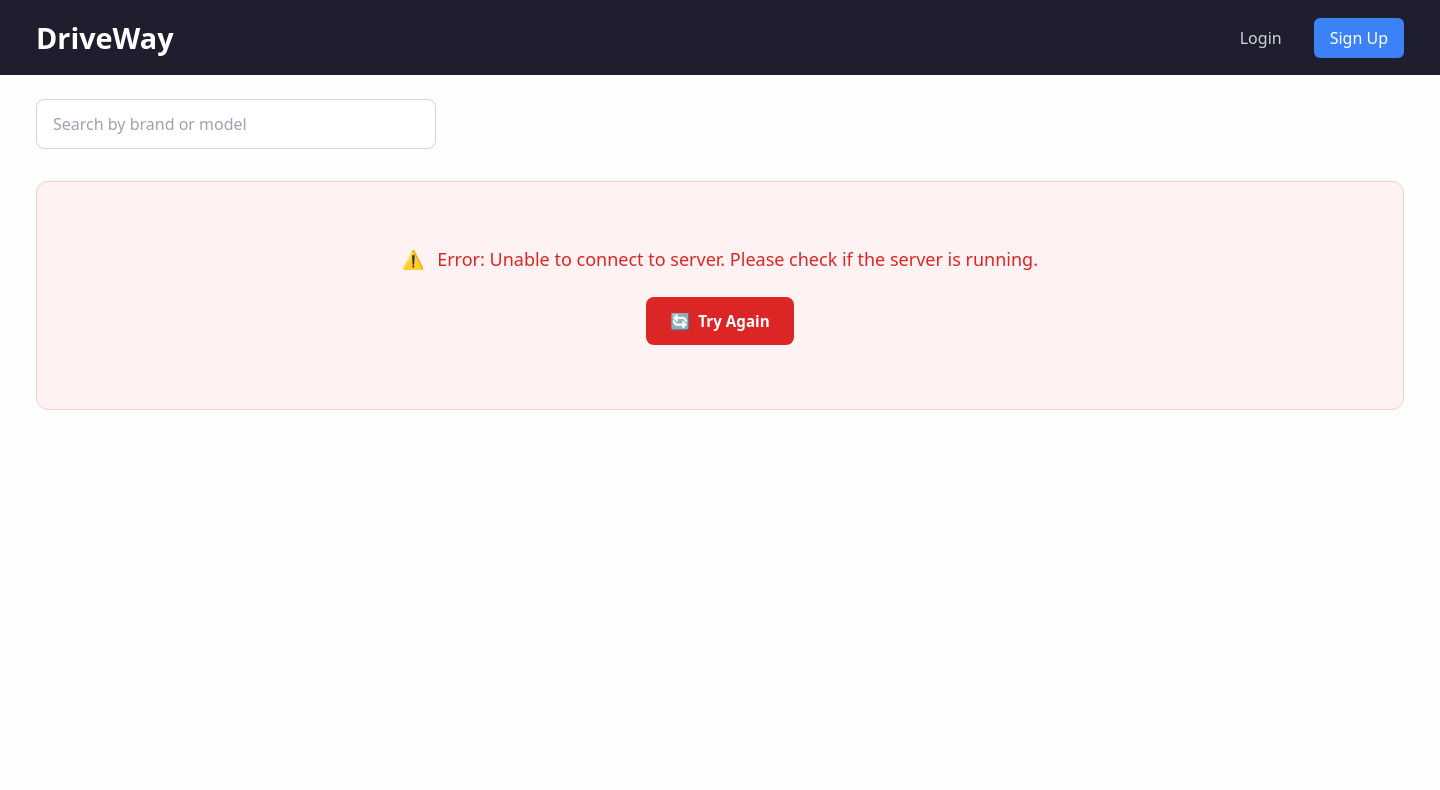
Test: DriveWay - Complete User Registration and Car Management Flow › User Registration Flow › should navigate to registration page
Click on Sign Up link in the header
Click the link to "/register" at [1359, 38], box [1314, 18, 1404, 58]
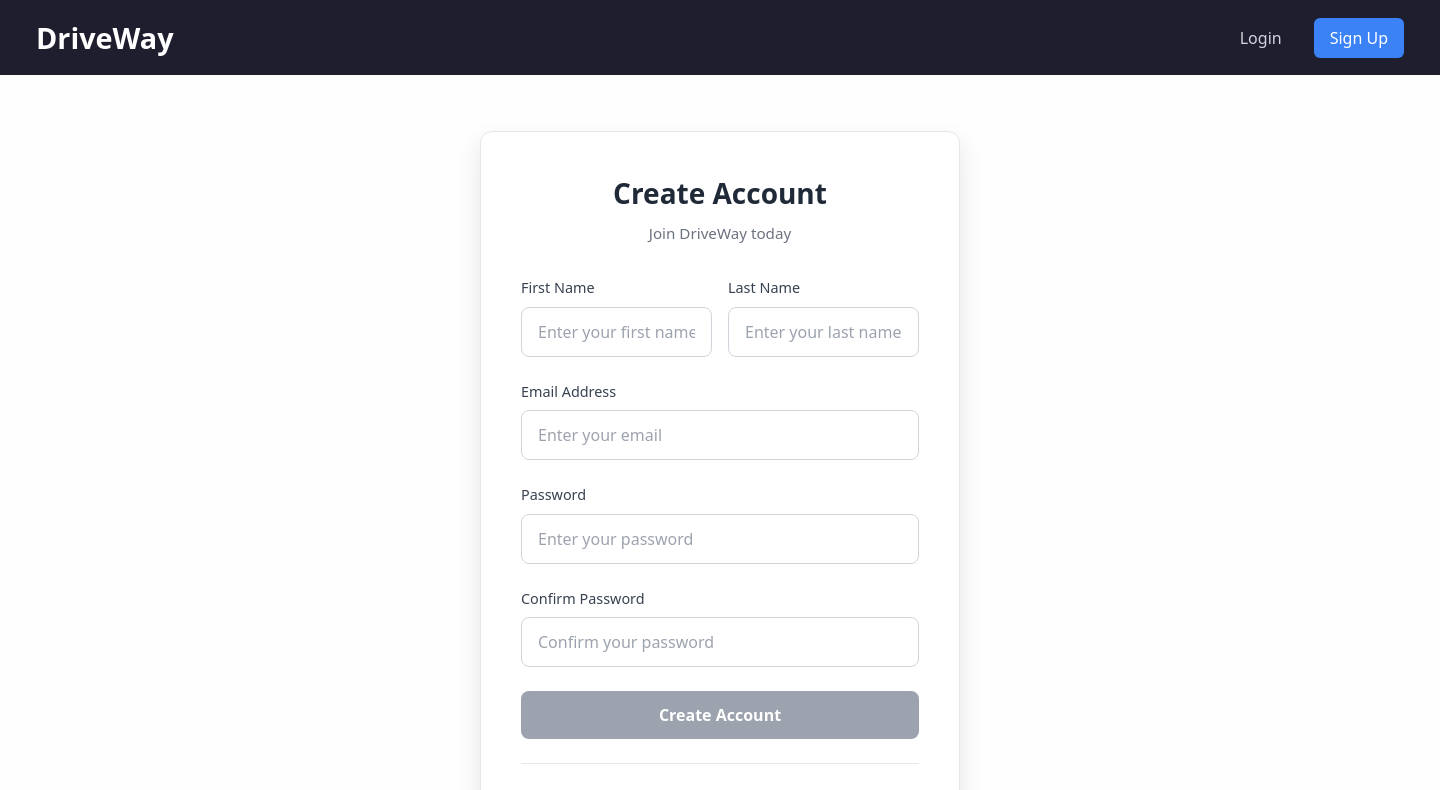
Now the form is shown, box [521, 277, 919, 739]
Now the field with id "firstName" is shown, box [521, 307, 712, 357]
Now the field with id "lastName" is shown, box [728, 307, 919, 357]
